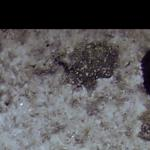alive: (3, 30, 147, 147)
